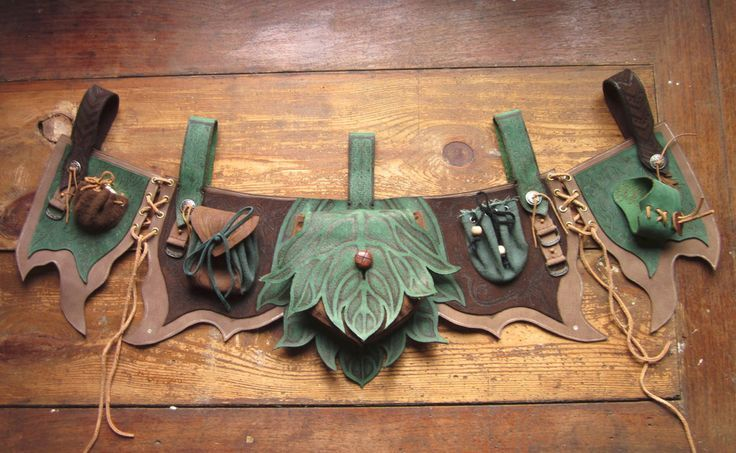cuero: (17, 70, 721, 346)
